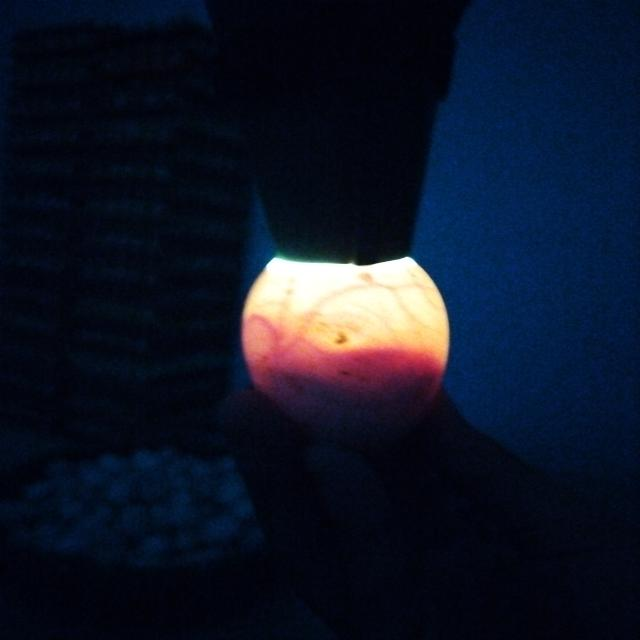Embriao: (257, 372, 442, 448)
